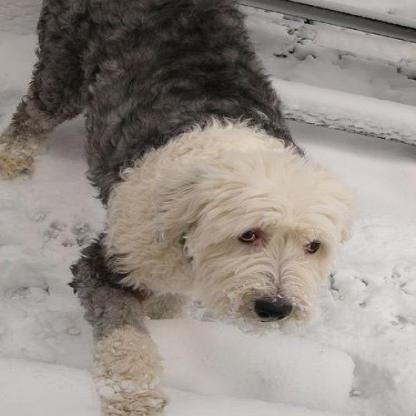Old_English_sheepdog: (0, 0, 351, 413)
